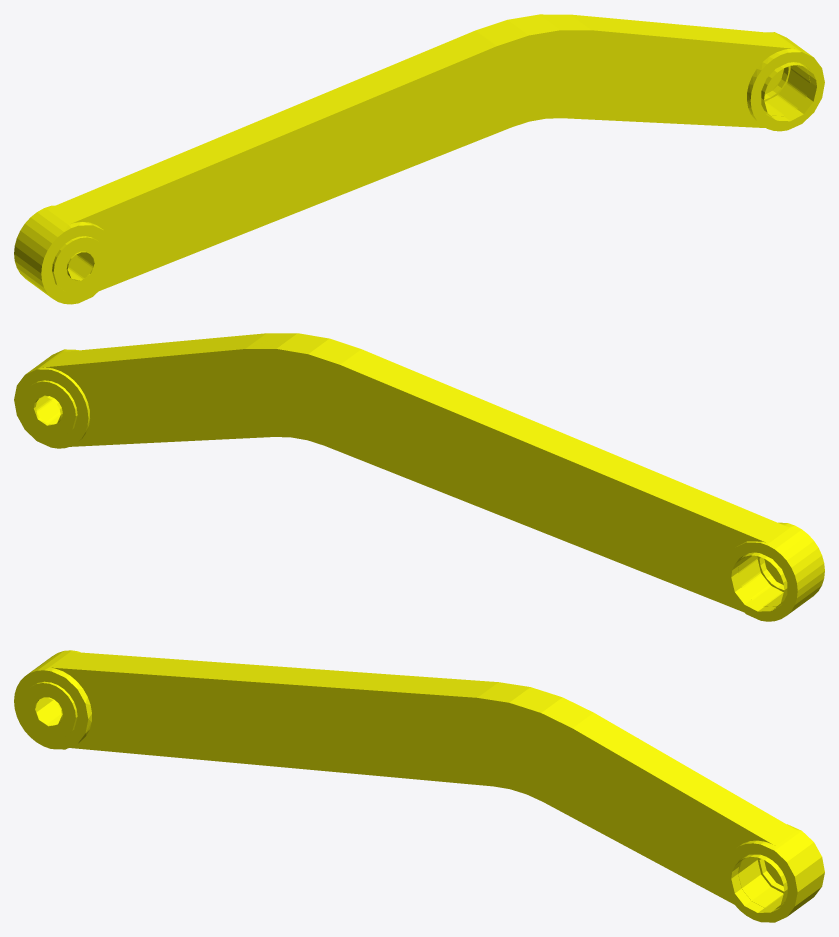
3 views of the same model, one above another, from view 1: azimuth 30°, elevation 25°; view 2: azimuth 150°, elevation 25°; view 3: azimuth 330°, elevation 25° (orthographic).
Parts seen in each view (by area): view 1: node; view 2: node; view 3: node.
Boxes of the visible parts, x1=… form: node: x1=14, y1=14, x2=824, y2=304; node: x1=14, y1=333, x2=824, y2=621; node: x1=14, y1=650, x2=824, y2=922.
Bounding box in the file's own units: 1160 × 218 × 140.
